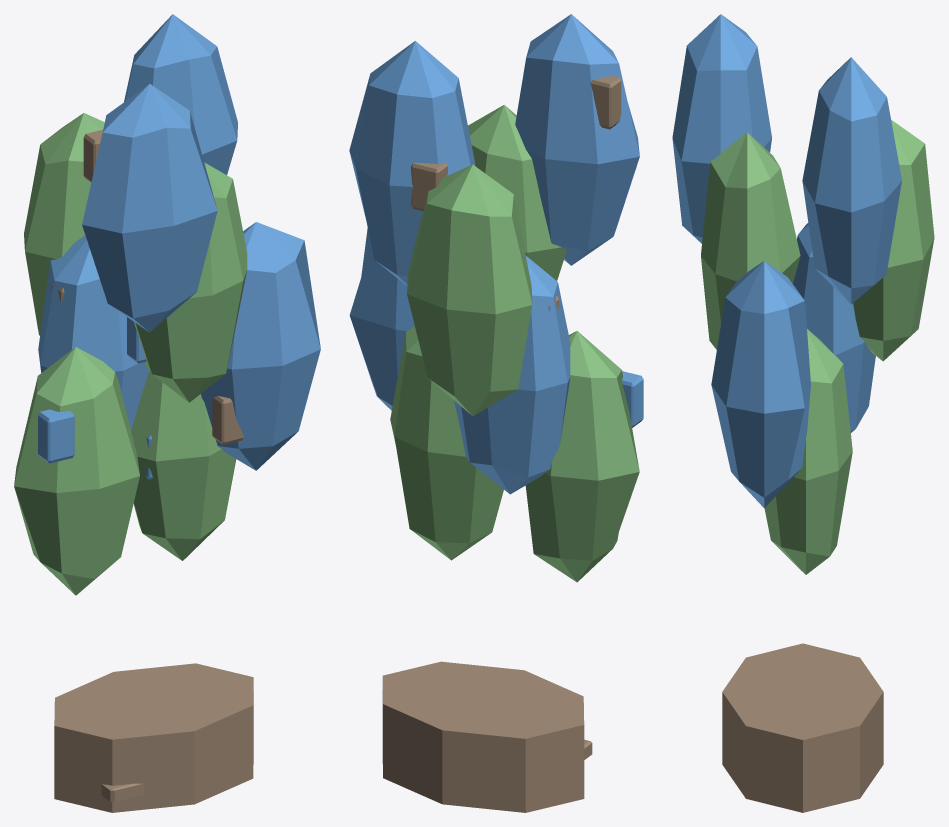
File: b08_bearded_iris.glb
The picture shows the model from 3 angles, left to right: view 1: azimuth 30°, elevation 25°; view 2: azimuth 150°, elevation 25°; view 3: azimuth 270°, elevation 25°; orthographic projection.
Visible parts, largest first — view 1: b08_bearded_iris; view 2: b08_bearded_iris; view 3: b08_bearded_iris.
Boxes of the visible parts, bbox=[...] form: b08_bearded_iris: bbox=[14, 14, 320, 812]; b08_bearded_iris: bbox=[349, 14, 643, 812]; b08_bearded_iris: bbox=[672, 14, 934, 812].
Bounding box in the file's own units: 0.455 × 1.1 × 0.358.
